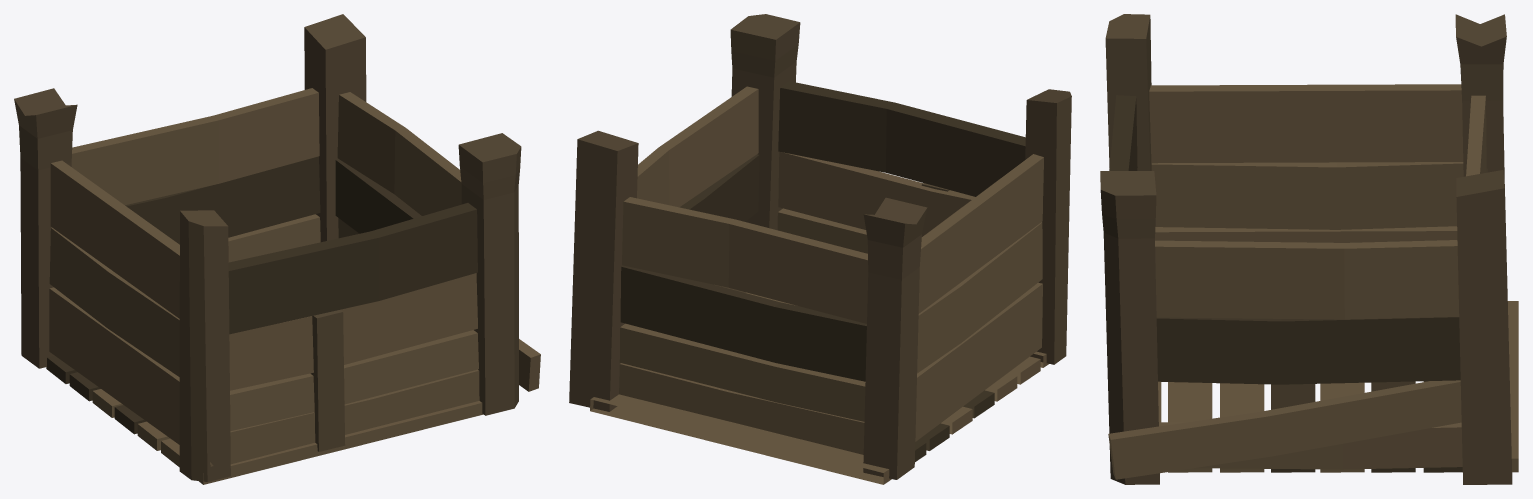
The model's file is EA03_Prop_Container_Crate_01a.glb.
The picture shows the model from 3 angles, left to right: view 1: azimuth 30°, elevation 25°; view 2: azimuth 150°, elevation 25°; view 3: azimuth 270°, elevation 25°; orthographic projection. The views are drawn at different scales.
Parts seen in each view (by area): view 1: EA03_Prop_Container_Crate_01a; view 2: EA03_Prop_Container_Crate_01a; view 3: EA03_Prop_Container_Crate_01a.
Part boxes in pixels (<box>): EA03_Prop_Container_Crate_01a: <box>14,14,540,484</box>; EA03_Prop_Container_Crate_01a: <box>569,14,1071,484</box>; EA03_Prop_Container_Crate_01a: <box>1100,14,1518,484</box>.
Bounding box in the file's own units: 0.8762 × 0.6379 × 0.8136.
1 material, 1 textured.
